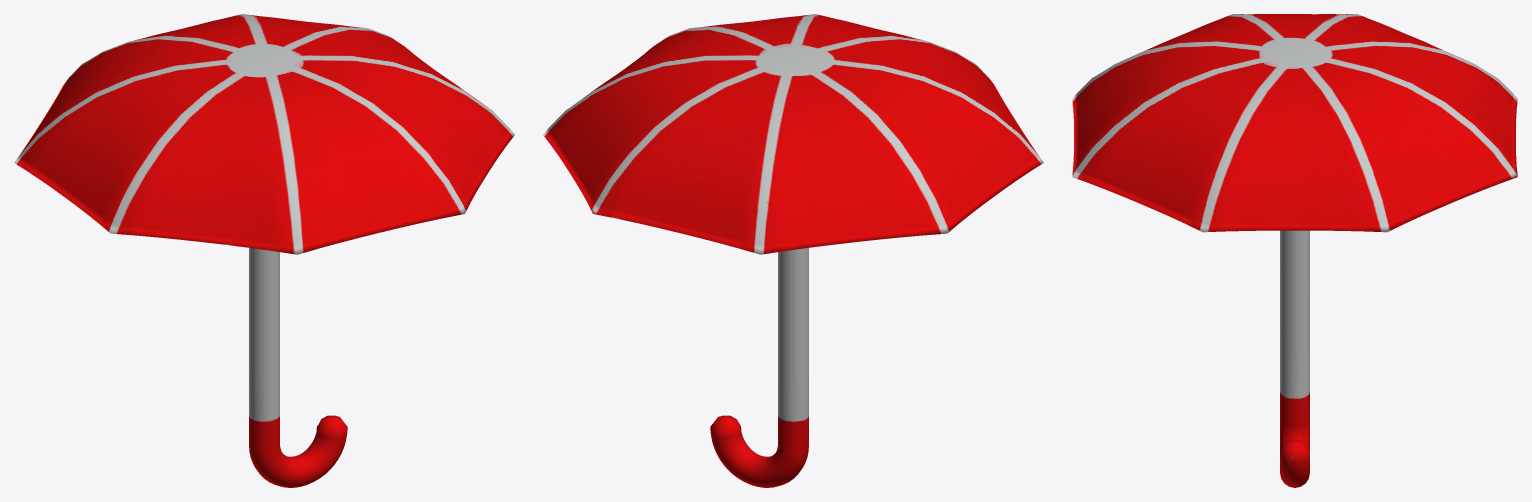
File: UmbrellaOpen.gltf
3 views of the same model, side by side, from view 1: azimuth 30°, elevation 25°; view 2: azimuth 150°, elevation 25°; view 3: azimuth 270°, elevation 25° (orthographic). The views are drawn at different scales.
Visible parts, largest first — view 1: Cylinder; view 2: Cylinder; view 3: Cylinder.
Part boxes in pixels (x1,y1,x2,y2): Cylinder: [14, 14, 514, 487]; Cylinder: [543, 14, 1043, 487]; Cylinder: [1072, 14, 1517, 487].
Bounding box in the file's own units: 5.97 × 6.12 × 5.97.
1 material, 1 textured.
